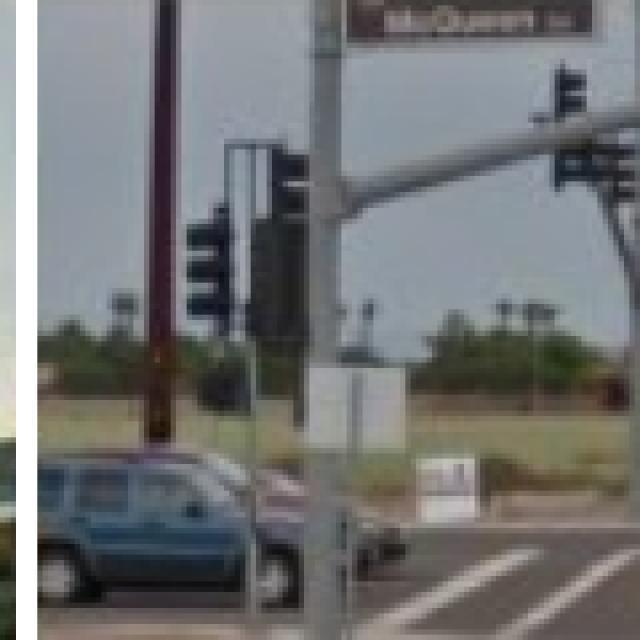red_light: (549, 57, 640, 217), (252, 124, 316, 336), (185, 182, 242, 331)
